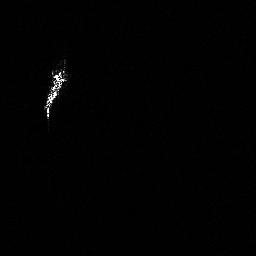ship: (40, 65, 71, 120)
